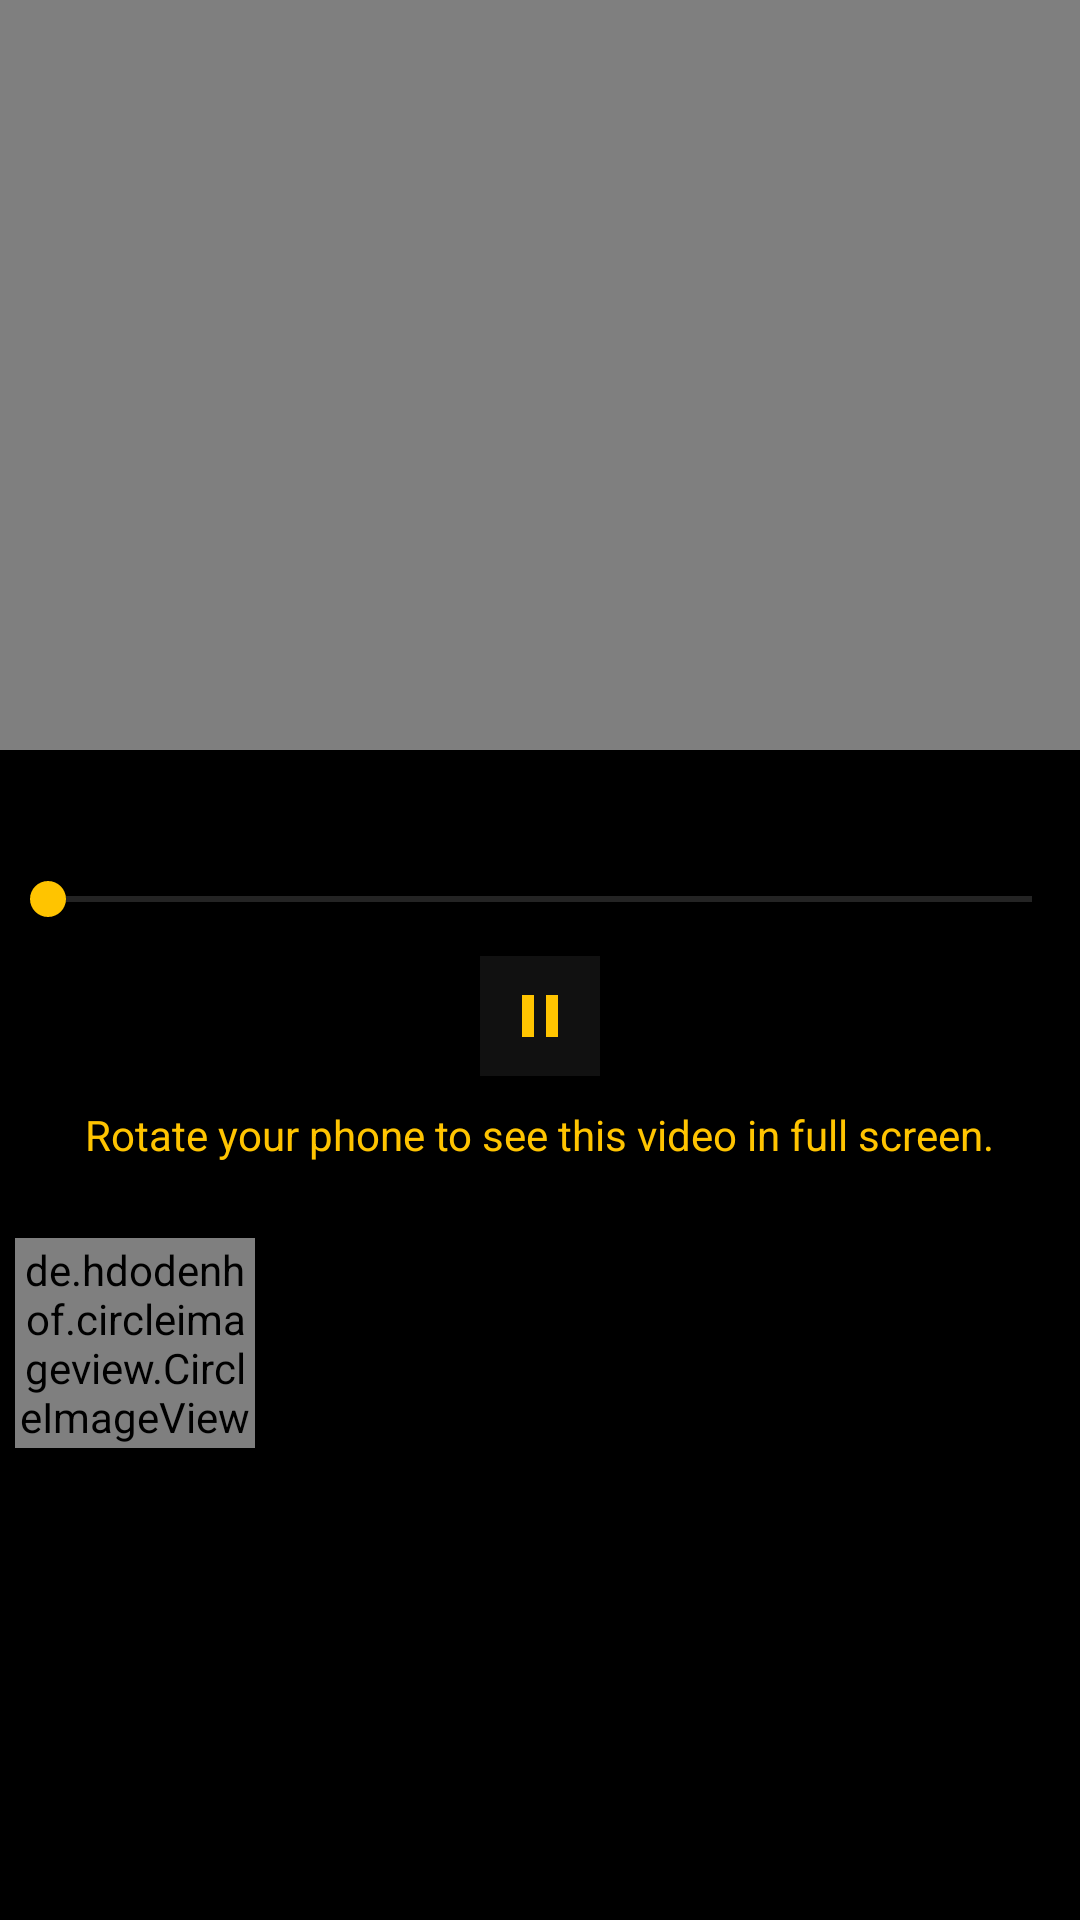

Named icons in this screenshot (1080 x 1920) and their centers, point (x, y):
pause: point (540, 1016)
